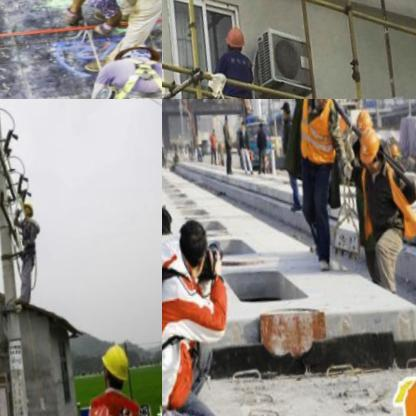helmet: (98, 333, 143, 391), (354, 111, 388, 168), (113, 35, 162, 69), (225, 21, 253, 55), (23, 195, 41, 219)
